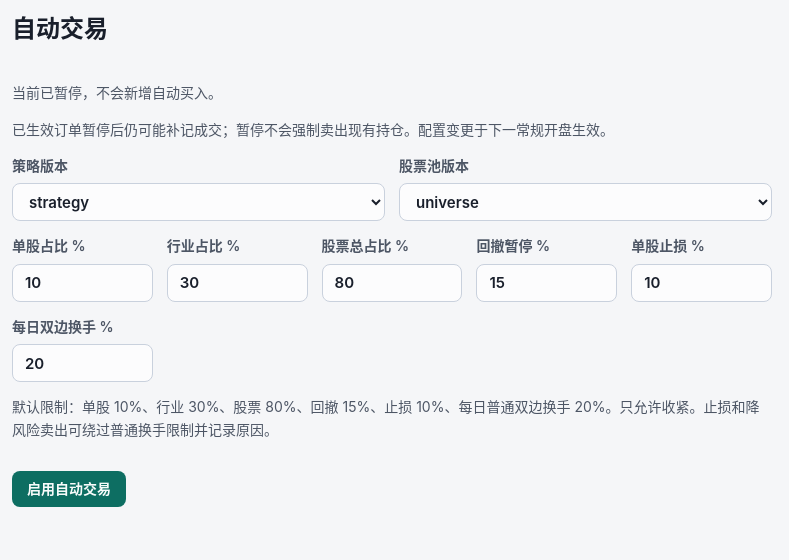
Test case: old config conflict cannot silently overwrite current version
Click the button "启用自动交易" at (69, 489), box [12,471,126,507]
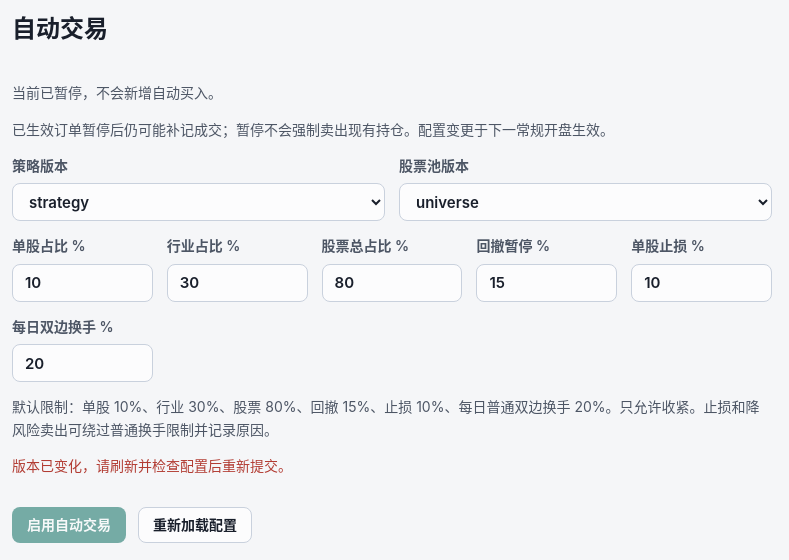
Expected: the message shows "版本", [12,457,292,474]
Expected: the button "启用自动交易" is disabled, [12,507,126,543]
